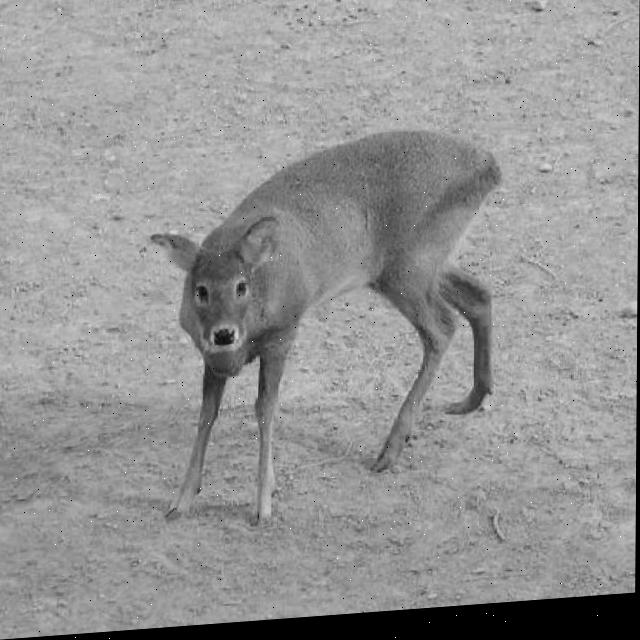Deer: (144, 109, 510, 536)
